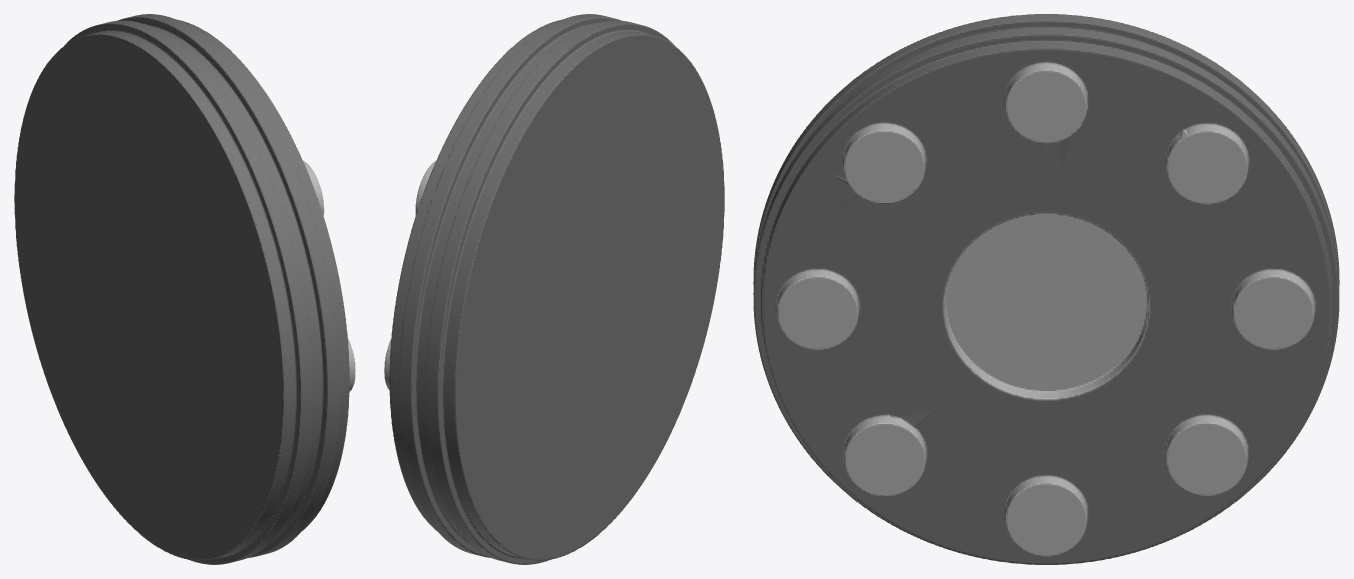
Rendered from PipeCover5.fbx.
The picture shows the model from 3 angles, left to right: view 1: azimuth 30°, elevation 25°; view 2: azimuth 150°, elevation 25°; view 3: azimuth 270°, elevation 25°; orthographic projection. The views are drawn at different scales.
Visible parts, largest first — view 1: PipeCover5; view 2: PipeCover5; view 3: PipeCover5.
Part boxes in pixels (box(x1,y1,x2,y2)): PipeCover5: box(14, 14, 355, 564); PipeCover5: box(384, 14, 724, 564); PipeCover5: box(753, 14, 1339, 564).
Size of the model in its own units: 34.14 by 205 by 205.
